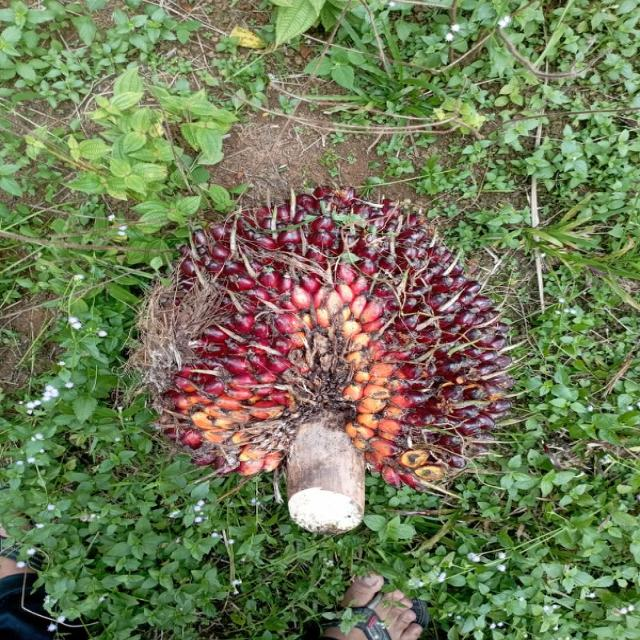fraksi 3: (142, 185, 503, 493)
